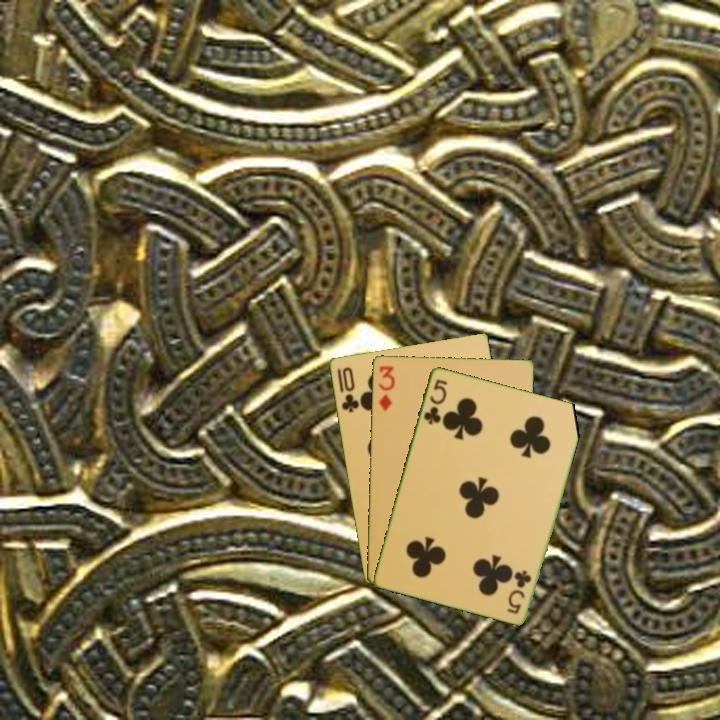10c: (333, 363, 361, 415)
3d: (374, 362, 397, 414)
5c: (420, 375, 450, 427), (504, 566, 534, 616)
